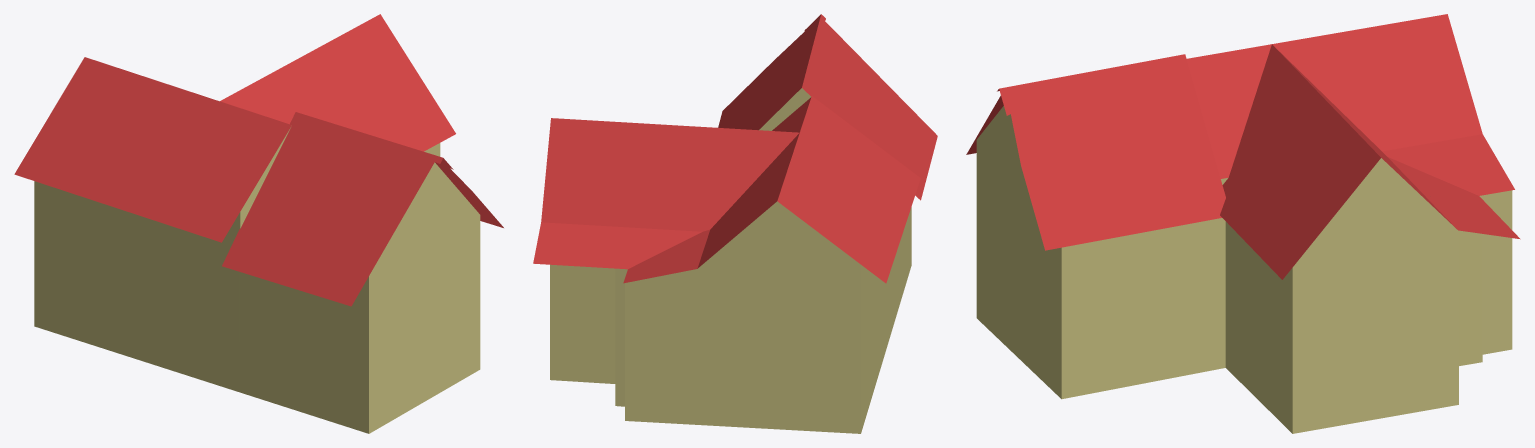
3 renders of one model, left to right at view 1: azimuth 30°, elevation 25°; view 2: azimuth 150°, elevation 25°; view 3: azimuth 270°, elevation 25°, orthographic. The views are drawn at different scales.
Bounding box in the file's own units: 22.95 × 25.54 × 13.99.
